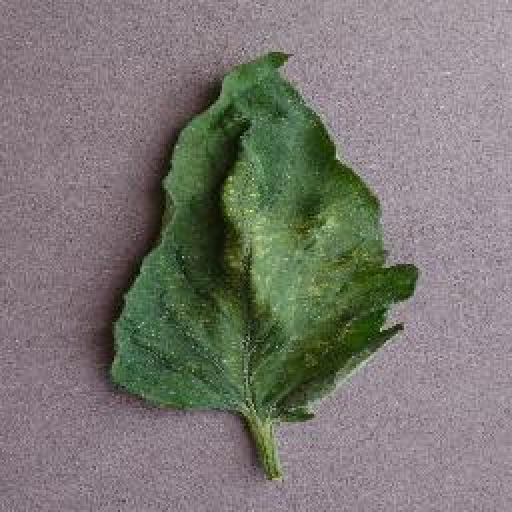disease_tomato: (108, 50, 422, 422)
